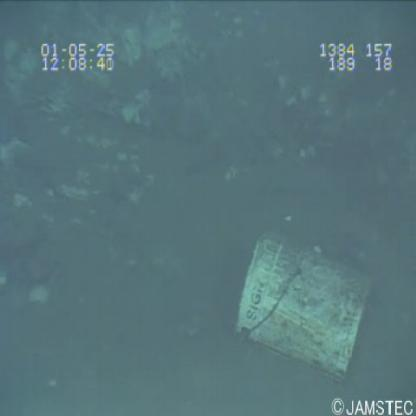Rác: (224, 222, 382, 393)
